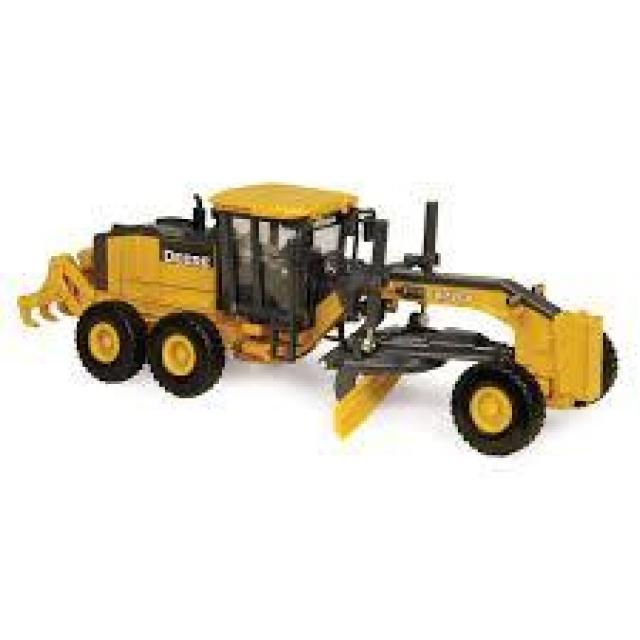Grader: (9, 136, 637, 458)
